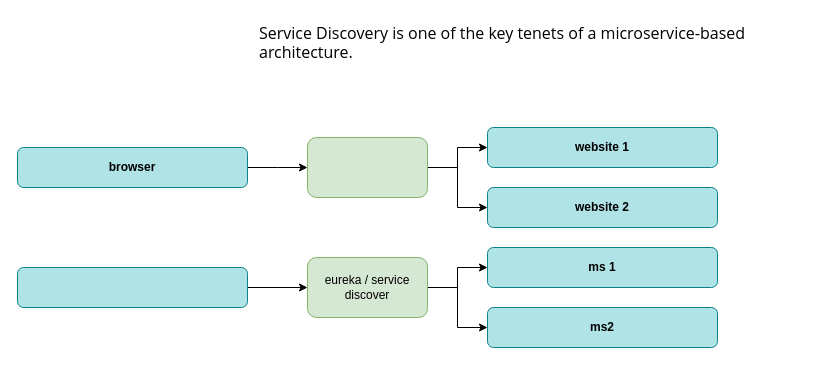
This 825x365 diagram has some shape labels left out. Here are the shapes that lost their labels. From the top down, the centre of each, then its label:
At pixel 367 167: "google.com / search engine".
At pixel 132 287: "client".
